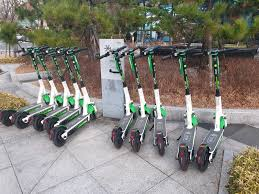kick_body: (154, 118, 166, 135)
kick_handler: (192, 47, 237, 57), (163, 47, 196, 60), (98, 46, 126, 57)
kick_neck: (179, 61, 191, 114), (149, 59, 162, 106), (212, 58, 222, 116)
kick_wheel: (197, 144, 208, 170), (52, 127, 66, 146), (179, 144, 188, 170), (112, 127, 123, 148), (131, 130, 141, 151), (2, 110, 16, 125), (156, 135, 164, 156)
